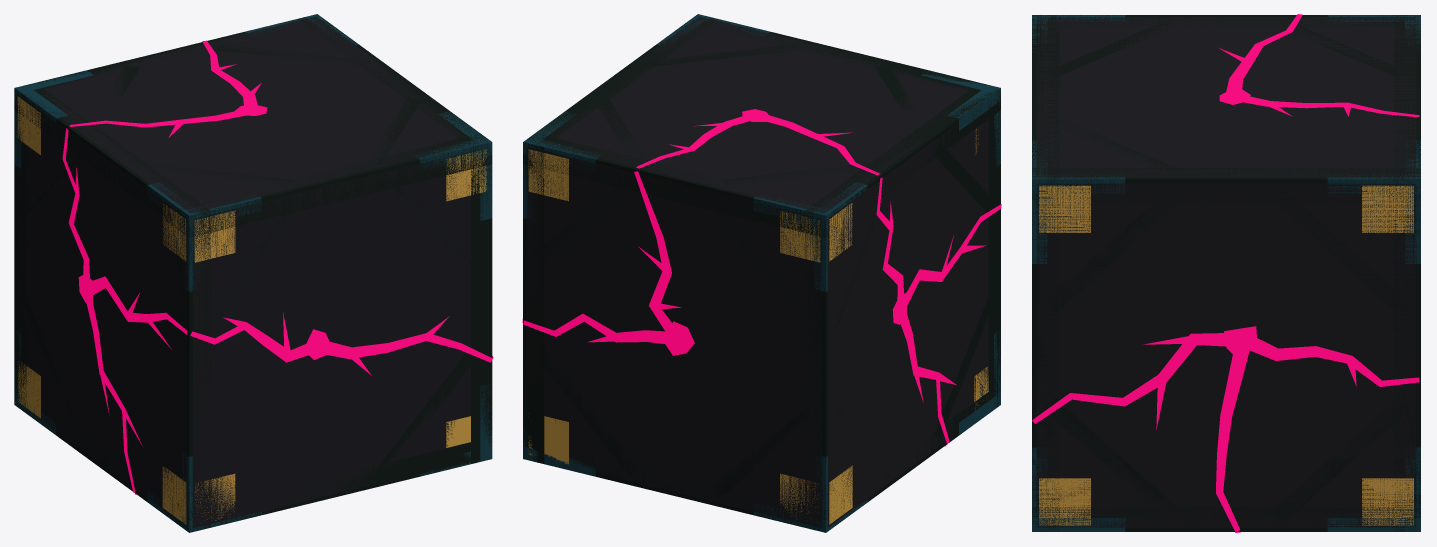
The model's file is voxel-blocks-data.glb.
3 renders of one model, left to right at view 1: azimuth 30°, elevation 25°; view 2: azimuth 150°, elevation 25°; view 3: azimuth 270°, elevation 25°, orthographic. The views are drawn at different scales.
Visible parts, largest first — view 1: Mine_Body, Siphon_Cage, Pyre_Frame, Mine_Fissures, Bastion_Caps; view 2: Mine_Body, Siphon_Cage, Pyre_Frame, Mine_Fissures, Bastion_Caps; view 3: Mine_Body, Siphon_Cage, Bastion_Caps, Mine_Fissures, Pyre_Frame.
Part boxes in pixels (bbox=[...]): Mine_Body: bbox=[16, 16, 488, 528]; Siphon_Cage: bbox=[14, 14, 492, 531]; Pyre_Frame: bbox=[14, 14, 492, 532]; Mine_Fissures: bbox=[62, 40, 493, 494]; Bastion_Caps: bbox=[17, 96, 486, 524]; Mine_Body: bbox=[526, 16, 988, 527]; Siphon_Cage: bbox=[523, 15, 1000, 531]; Pyre_Frame: bbox=[523, 14, 1000, 532]; Mine_Fissures: bbox=[522, 109, 1001, 446]; Bastion_Caps: bbox=[528, 128, 988, 524]; Mine_Body: bbox=[1036, 17, 1416, 527]; Siphon_Cage: bbox=[1032, 15, 1420, 531]; Bastion_Caps: bbox=[1039, 185, 1413, 525]; Mine_Fissures: bbox=[1032, 14, 1419, 532]; Pyre_Frame: bbox=[1032, 15, 1420, 531].
Size of the model in its own units: 1.01 by 1.01 by 1.01.
